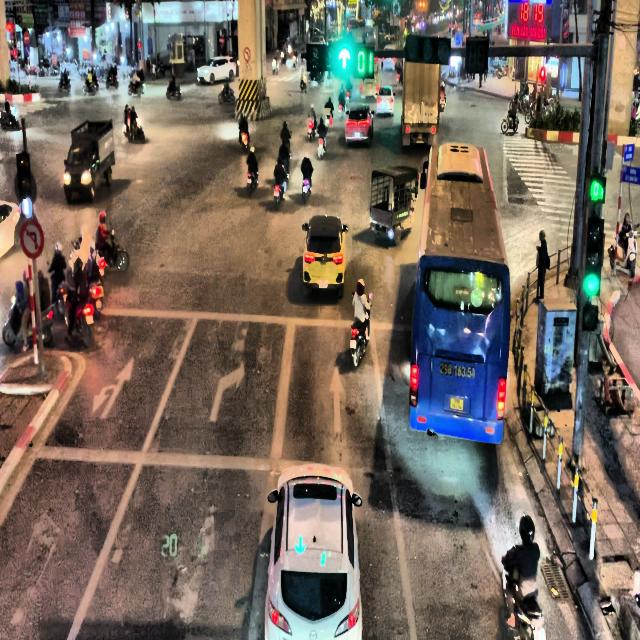BUS: (408, 142, 511, 444)
CAR: (264, 462, 363, 640), (302, 214, 348, 297), (344, 102, 374, 146), (0, 200, 21, 258), (196, 56, 237, 84), (376, 84, 394, 116)
MOTORBIKE: (2, 272, 54, 348), (499, 565, 546, 639), (63, 285, 93, 348), (350, 293, 372, 367), (97, 228, 129, 272), (122, 116, 145, 143), (0, 100, 19, 130), (274, 177, 286, 210), (246, 169, 259, 195), (218, 85, 235, 104), (128, 78, 145, 95), (58, 71, 71, 92), (106, 66, 118, 88), (302, 175, 311, 204), (166, 82, 181, 99), (151, 61, 165, 79), (239, 127, 249, 152), (280, 156, 290, 179), (317, 134, 326, 159), (307, 118, 316, 140), (83, 80, 97, 94), (300, 74, 307, 92), (283, 138, 290, 154)
TRUCK: (63, 119, 115, 203)
